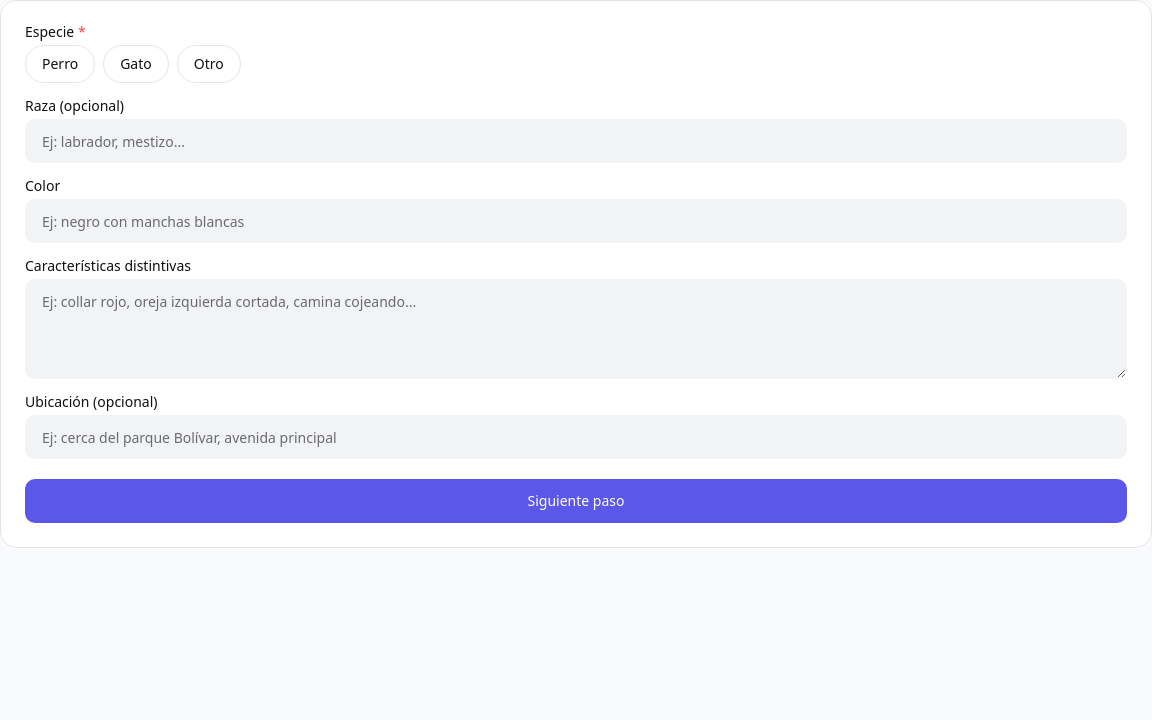
ReporteForm (HU1/HU3 — rediseño Figma) › HU1: tras crear el reporte navega al paso 2 (fotos) conservando el id
The image size is (1152, 720).
Click the radio button labelled "perro": (60, 64) [25, 45, 95, 83]
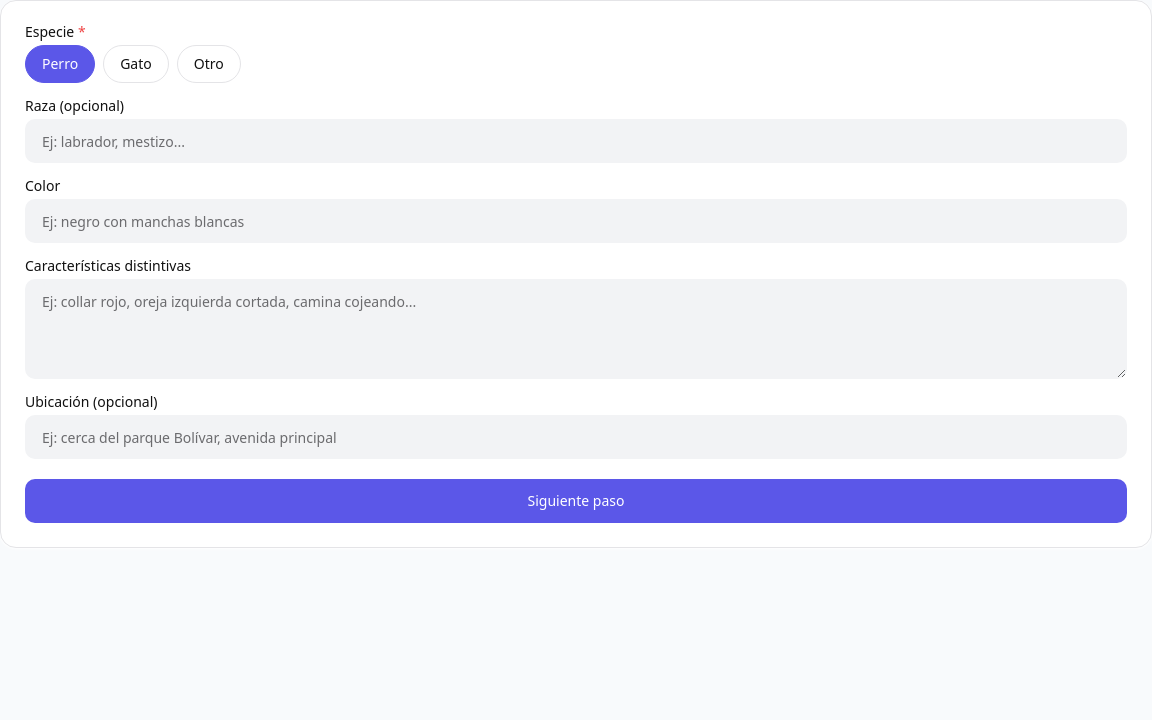
In the field labelled "Color": (576, 221) [25, 199, 1127, 243], type "negro"
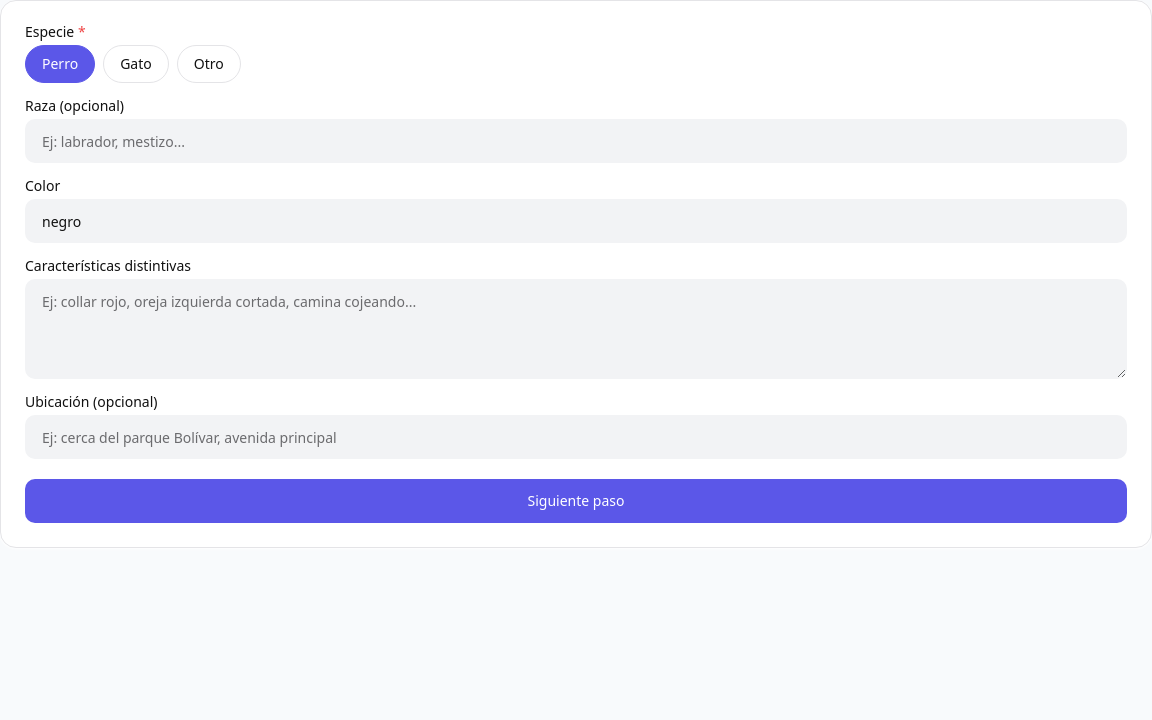
In the text box labelled "Características distintivas": (576, 329) [25, 279, 1127, 379], type "collar rojo"
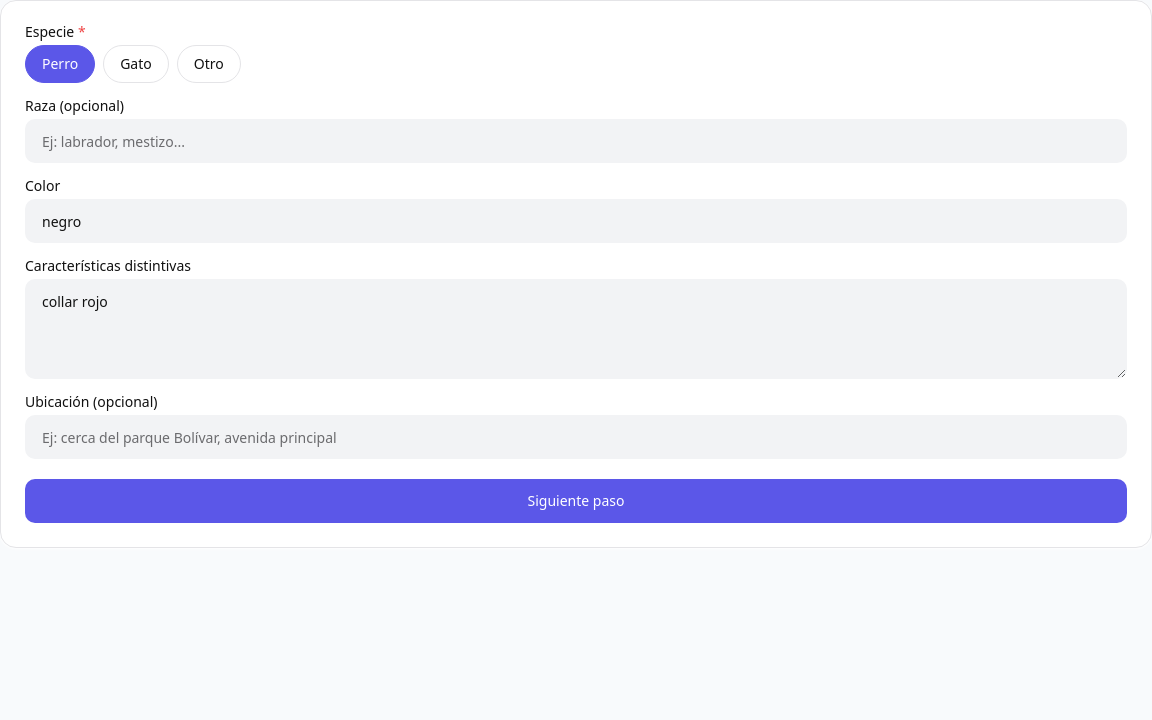
Click the button "Siguiente paso": (576, 501) [25, 479, 1127, 523]
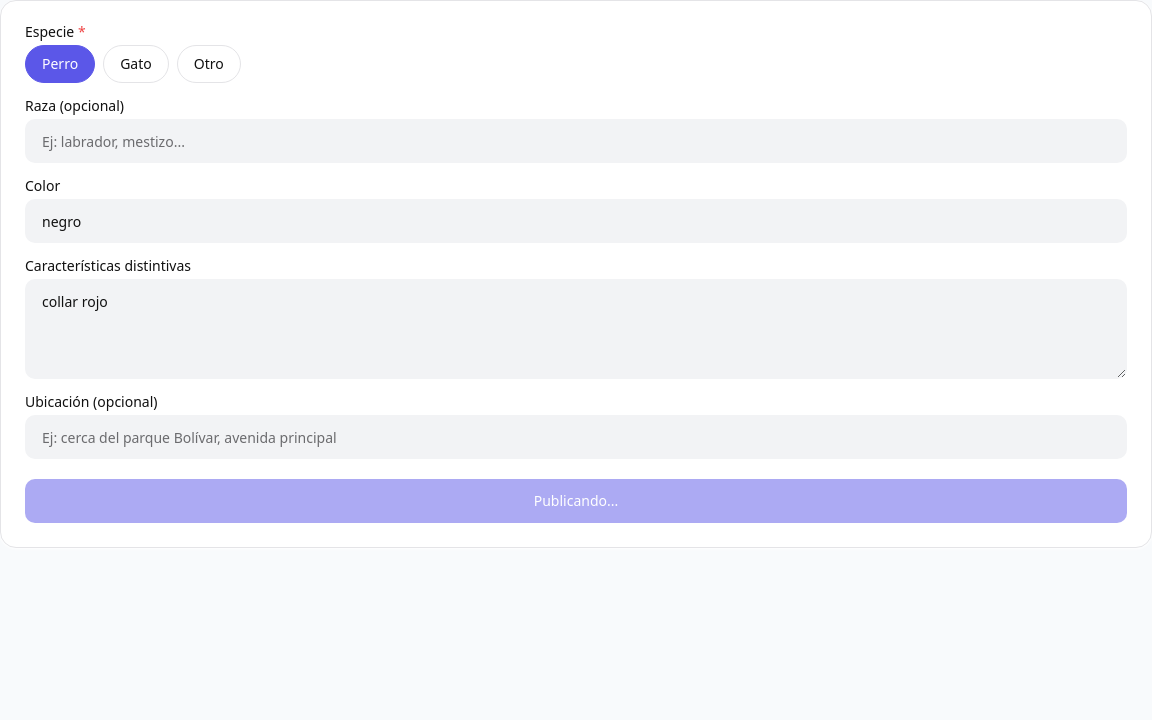
expect the button "Publicando..." is shown: met, box [25, 479, 1127, 523]
